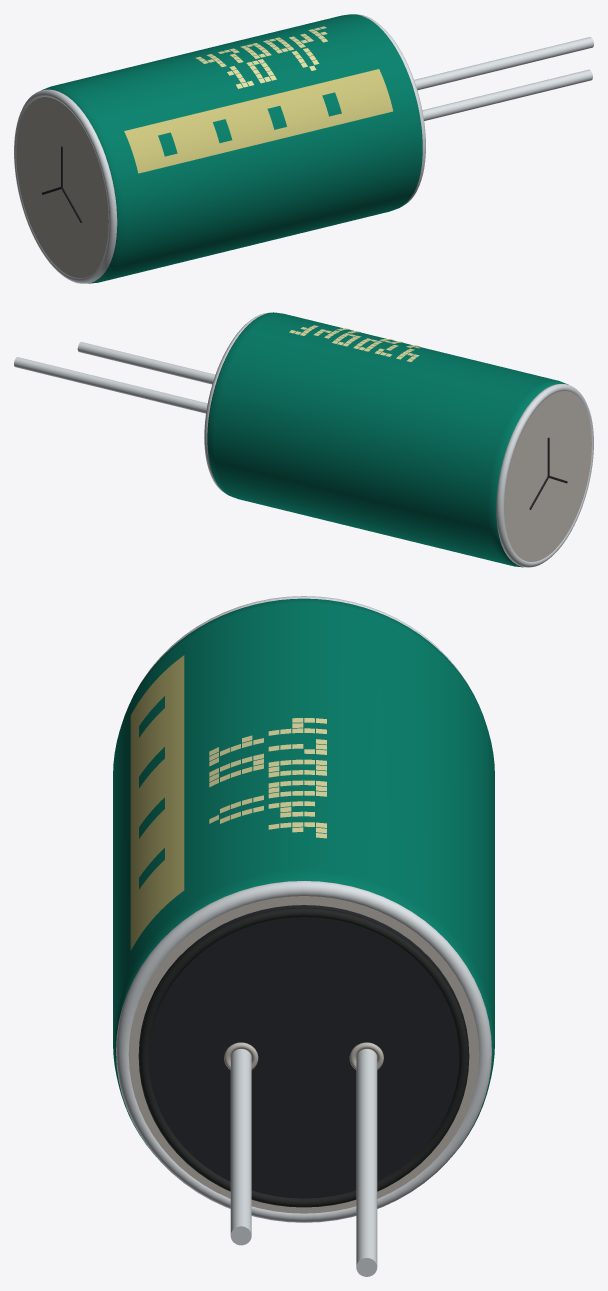
File: components-02.glb
3 views of the same model, one above another, from view 1: azimuth 30°, elevation 25°; view 2: azimuth 150°, elevation 25°; view 3: azimuth 270°, elevation 25° (orthographic). The views are drawn at different scales.
Visible parts, largest first — view 1: jacket, cap, stripe, lead-a, lead-b, rating; view 2: jacket, cap, lead-a, lead-b, rating; view 3: jacket, seal, cap, stripe, rating, lead-a, lead-b.
Part boxes in pixels (x1=…): jacket: x1=41, y1=14, x2=422, y2=283; cap: x1=14, y1=14, x2=425, y2=283; stripe: x1=124, y1=69, x2=392, y2=173; lead-a: x1=414, y1=37, x2=593, y2=90; lead-b: x1=422, y1=69, x2=592, y2=120; rating: x1=195, y1=26, x2=327, y2=88; jacket: x1=207, y1=312, x2=568, y2=567; cap: x1=204, y1=312, x2=593, y2=567; lead-a: x1=14, y1=357, x2=207, y2=413; lead-b: x1=77, y1=342, x2=215, y2=384; rating: x1=289, y1=325, x2=420, y2=361; jacket: x1=113, y1=598, x2=494, y2=1156; seal: x1=138, y1=905, x2=469, y2=1207; cap: x1=116, y1=596, x2=491, y2=1222; stripe: x1=130, y1=655, x2=184, y2=950; rating: x1=209, y1=718, x2=326, y2=838; lead-a: x1=356, y1=1049, x2=377, y2=1276; lead-b: x1=230, y1=1049, x2=251, y2=1245.
Bounding box in the file's own units: 3.19 × 1.02 × 1.02.
